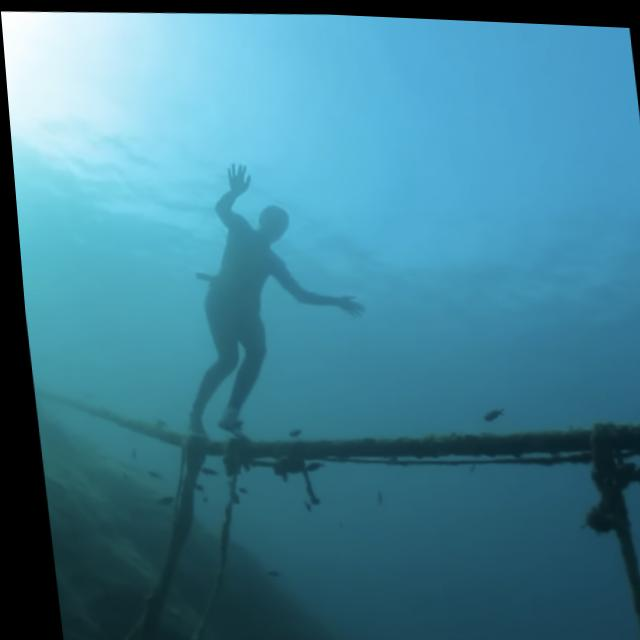human: (144, 145, 381, 452)
